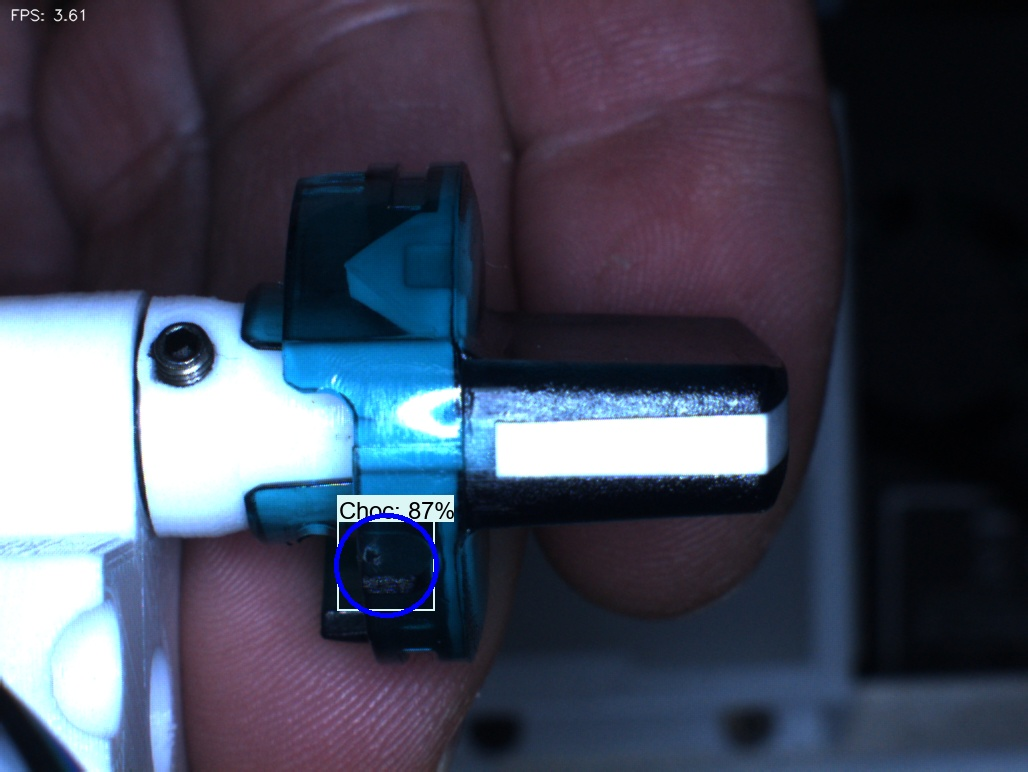DentOk: (314, 234, 390, 313)
